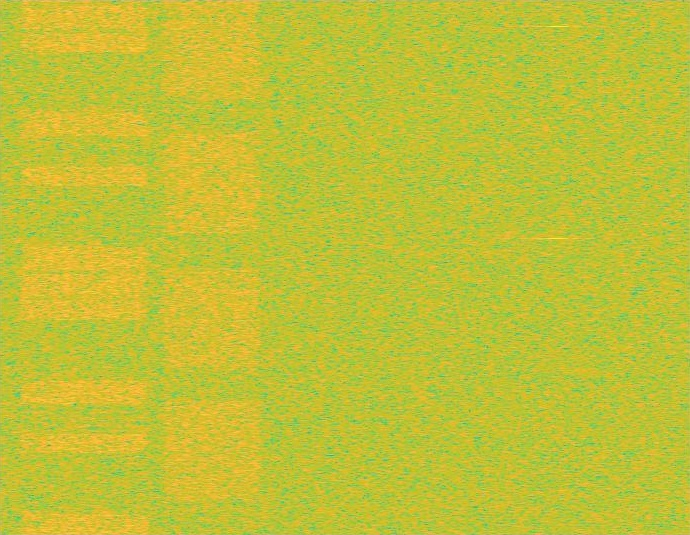5G: (161, 0, 264, 534)
LTE: (15, 0, 153, 534)
Radar: (550, 0, 564, 534)
